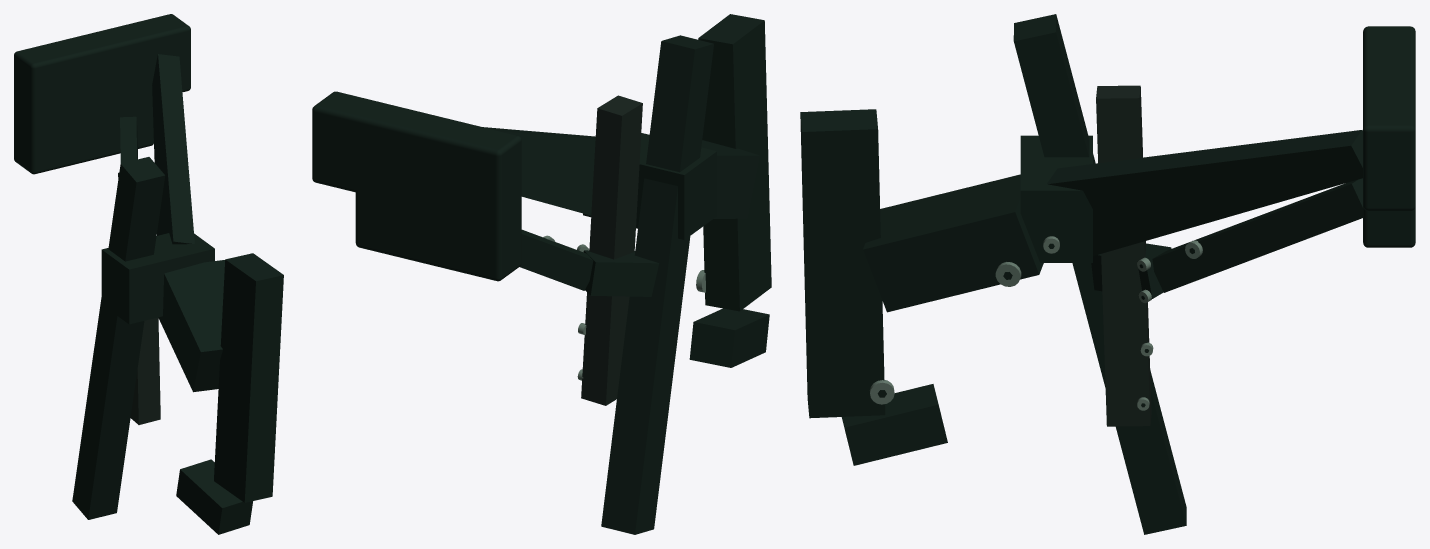
Rendered from local.glb.
3 views of the same model, side by side, from view 1: azimuth 30°, elevation 25°; view 2: azimuth 150°, elevation 25°; view 3: azimuth 270°, elevation 25° (orthographic). The views are drawn at different scales.
Parts seen in each view (by area): view 1: rear_sensor_bracket; view 2: rear_sensor_bracket; view 3: rear_sensor_bracket.
Part boxes in pixels (bbox=[...]): rear_sensor_bracket: bbox=[14, 14, 283, 534]; rear_sensor_bracket: bbox=[312, 14, 771, 534]; rear_sensor_bracket: bbox=[800, 14, 1415, 534].
Size of the model in its own units: 0.0811 by 0.1551 by 0.1697.
